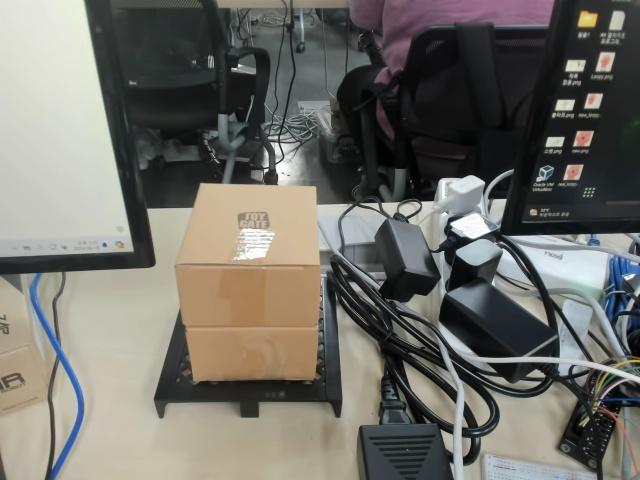box: (152, 181, 343, 417)
